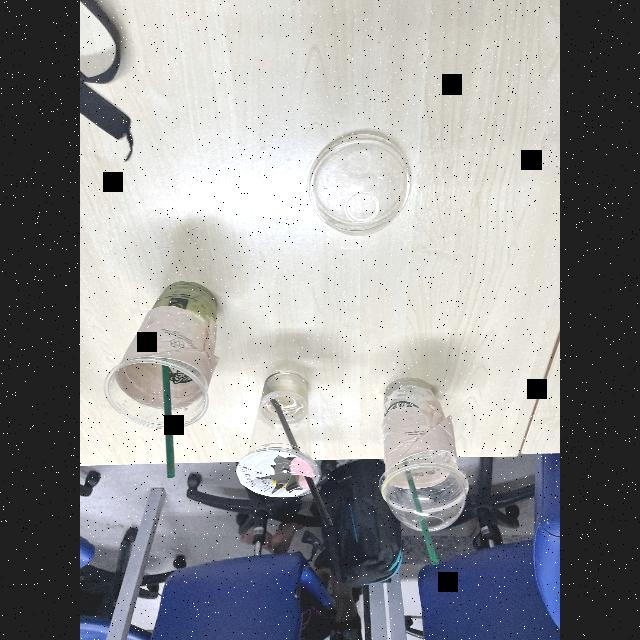plastic_cup: (102, 278, 232, 436), (356, 369, 470, 513), (239, 367, 331, 495)
plastic_cup_lid: (296, 123, 428, 240), (372, 462, 480, 534)
straw: (276, 400, 334, 530), (394, 456, 440, 566), (155, 351, 185, 489)
